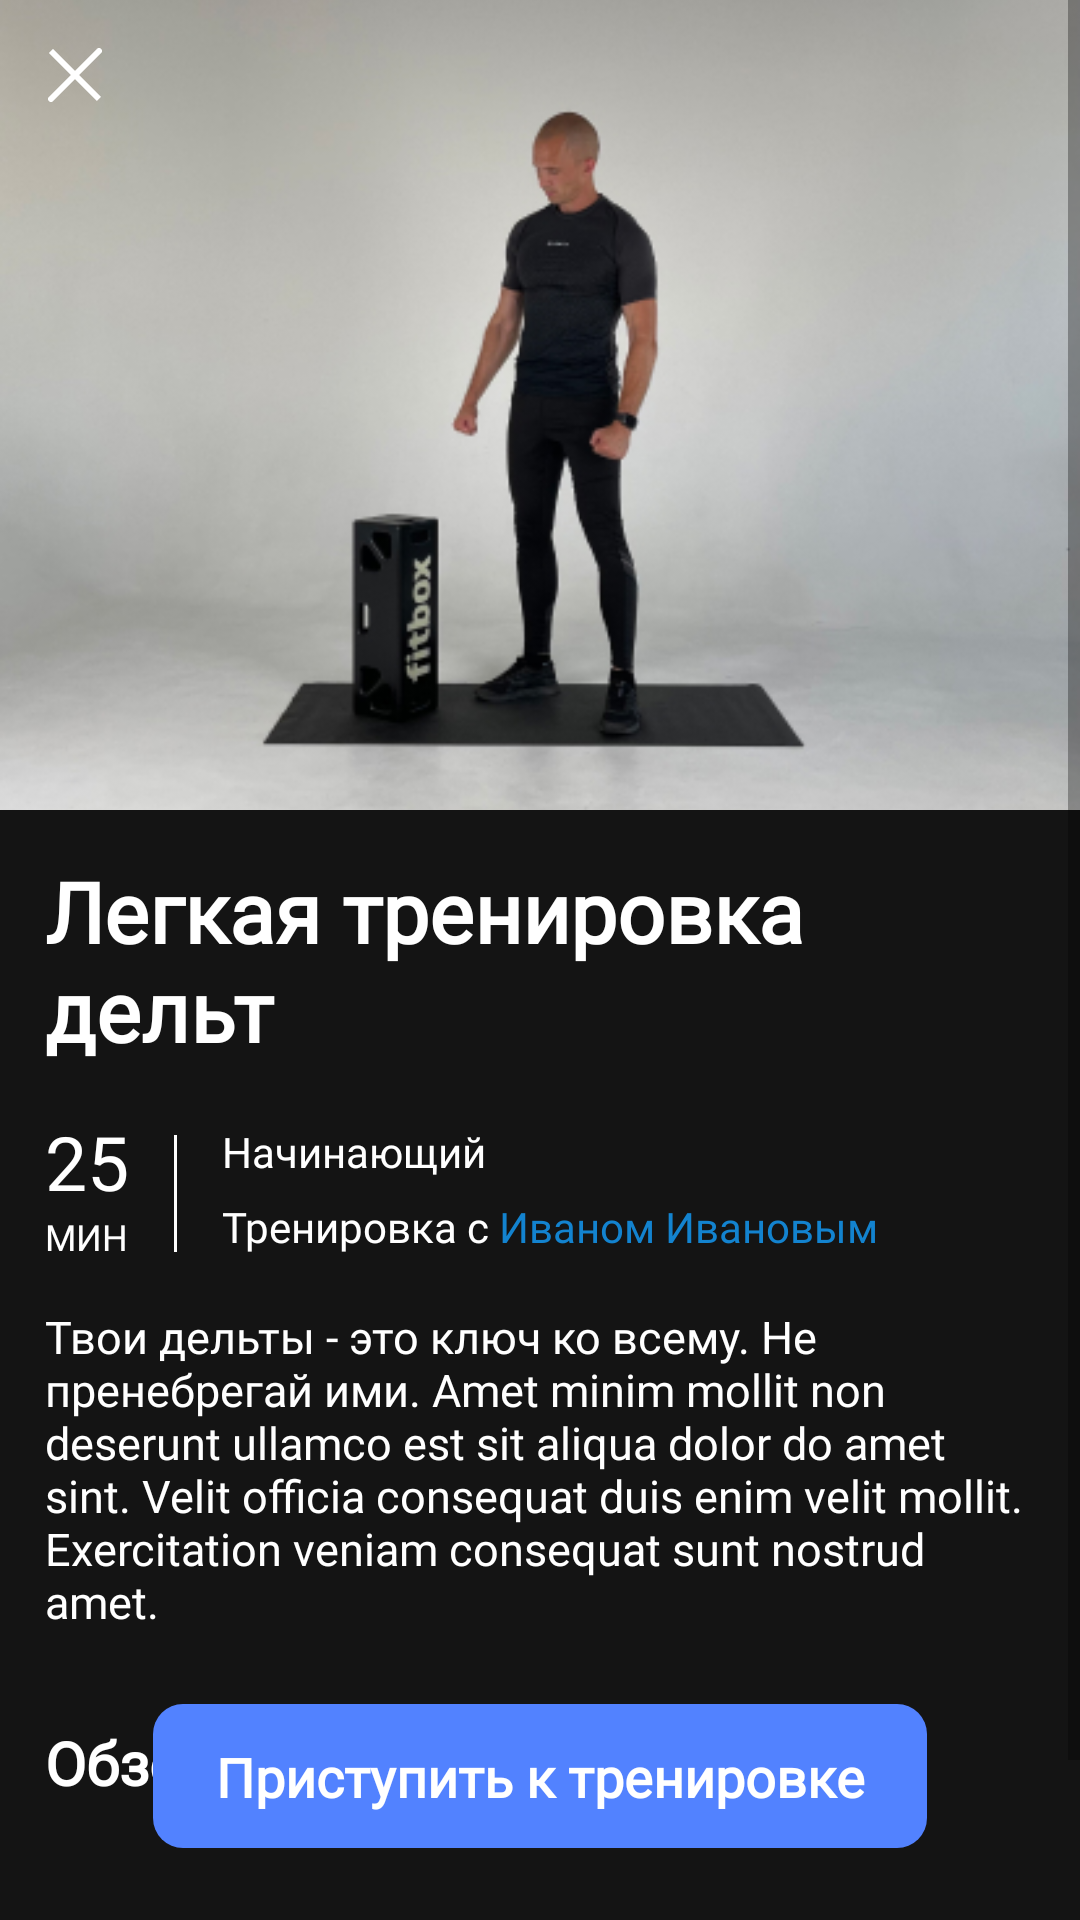

Icons on this 1080w x 1920h Android screen, each with its box as BBox(x1, y1, x2, y2):
cancel: BBox(48, 48, 102, 102)
